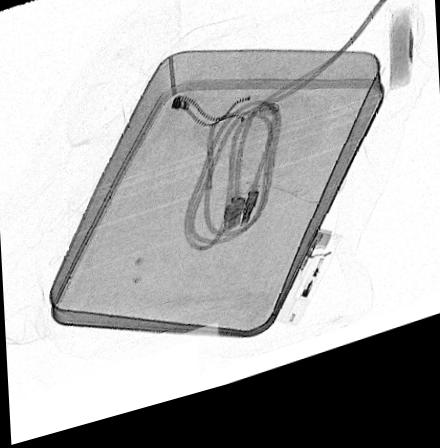Lighter: (271, 248, 343, 342)
